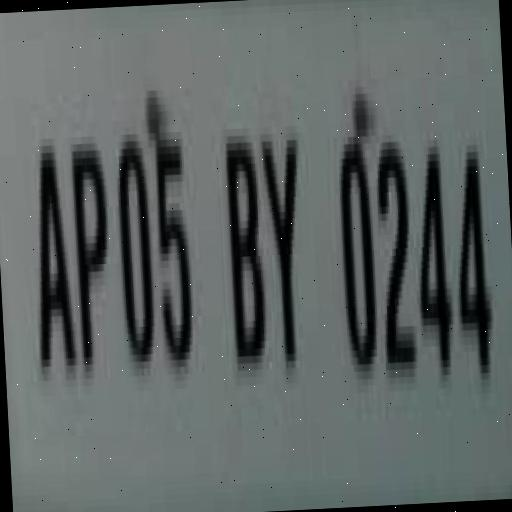number plate: (3, 0, 512, 509)
